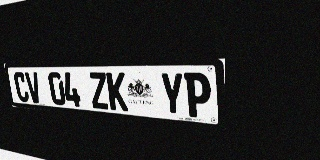0: (47, 72, 66, 106)
4: (62, 72, 81, 107)
C: (13, 72, 30, 102)
K: (106, 72, 128, 111)
P: (184, 73, 211, 119)
V: (25, 72, 42, 104)
Y: (159, 72, 185, 116)
Z: (88, 72, 110, 110)
